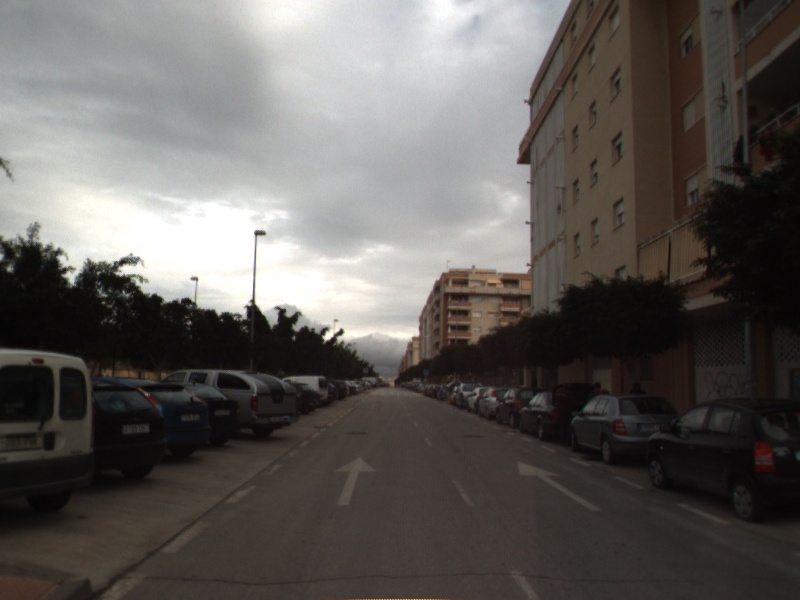STRAIGHT: (515, 458, 604, 512), (332, 455, 378, 507)
